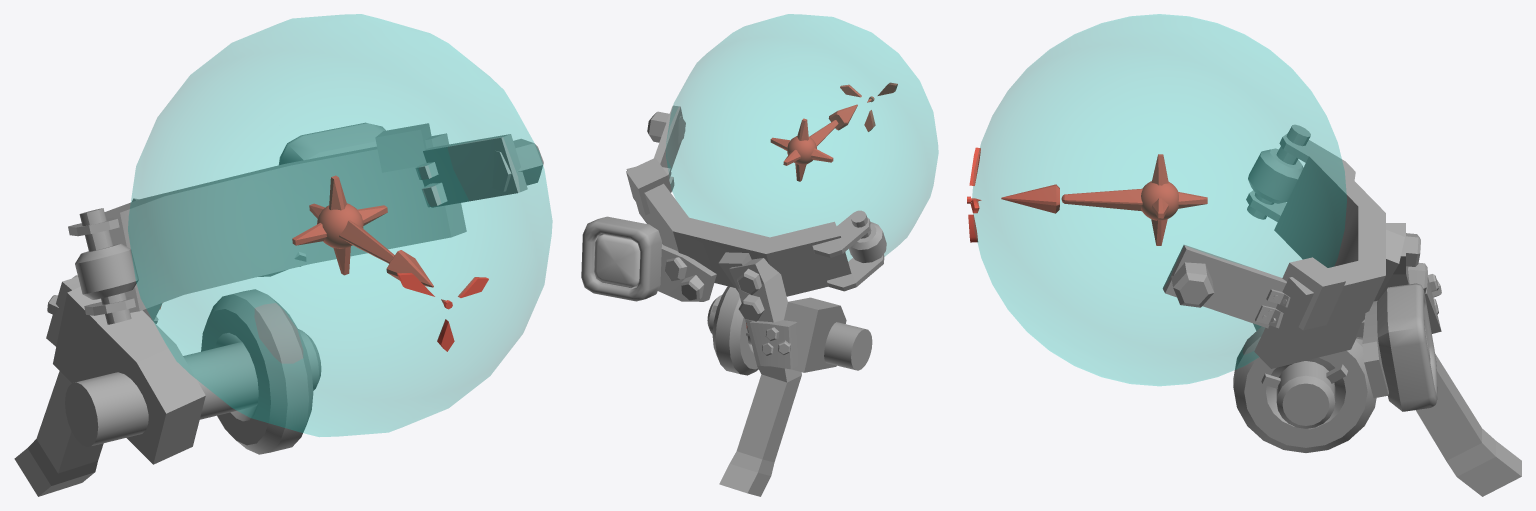
File: Compass.fbx
3 renders of one model, left to right at view 1: azimuth 30°, elevation 25°; view 2: azimuth 150°, elevation 25°; view 3: azimuth 270°, elevation 25°, orthographic. The views are drawn at different scales.
Parts seen in each view (by area): view 1: Handle, Needle, Screen; view 2: Handle, Screen, Needle; view 3: Handle, Screen, Needle.
Part boxes in pixels (left/top/right/bottom): Handle: left=14, top=14, right=552, bottom=496; Needle: left=292, top=175, right=433, bottom=287; Screen: left=278, top=122, right=385, bottom=165; Handle: left=626, top=14, right=938, bottom=496; Screen: left=581, top=216, right=661, bottom=301; Needle: left=770, top=104, right=857, bottom=181; Handle: left=967, top=14, right=1521, bottom=496; Screen: left=1377, top=283, right=1437, bottom=411; Needle: left=1001, top=154, right=1207, bottom=245.
Bounding box in the file's own units: 0.407 × 0.5438 × 0.5447.
